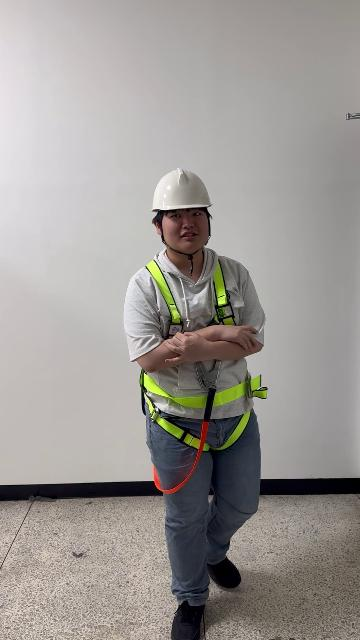helmet_worn: (151, 167, 214, 213)
shoe_not_worn: (170, 599, 204, 640), (206, 555, 241, 590)
vest_worn: (136, 262, 266, 452)
